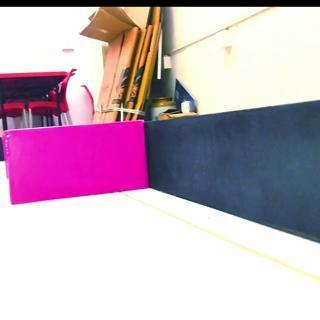xparking: (1, 120, 150, 206)
